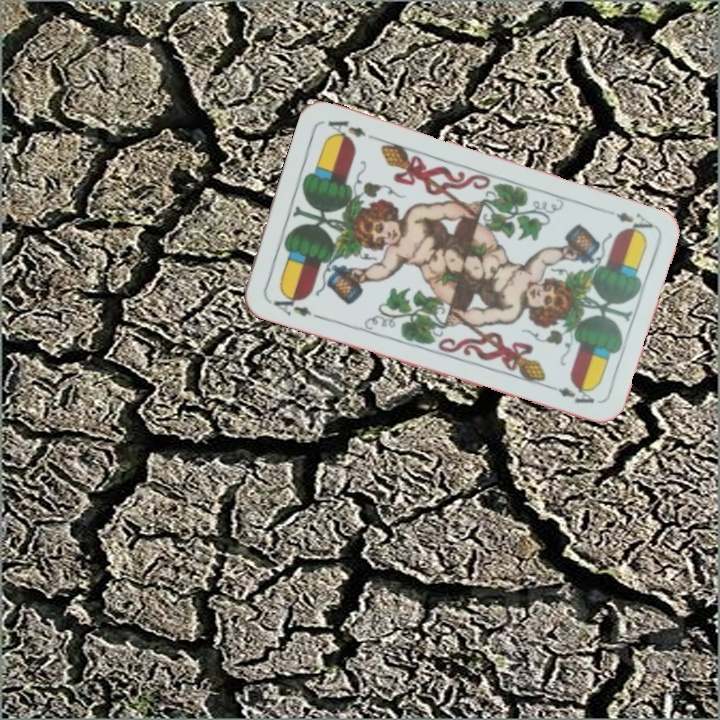EA: (265, 288, 323, 321), (612, 208, 656, 239)
